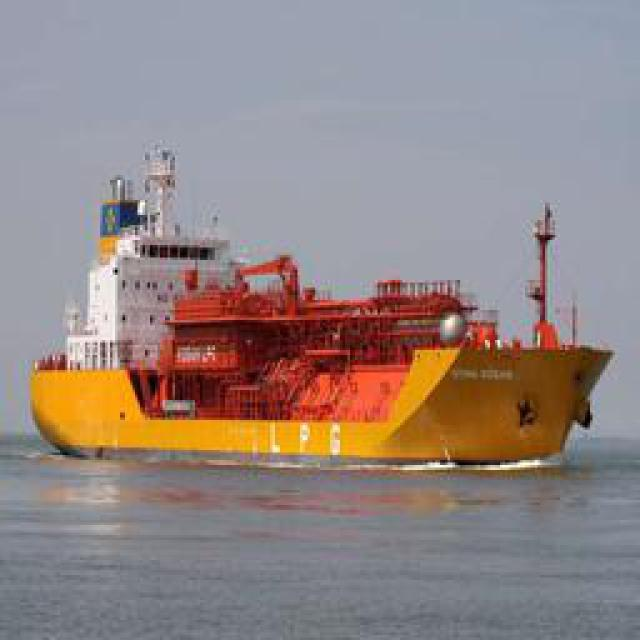Ship: (30, 170, 613, 468)
